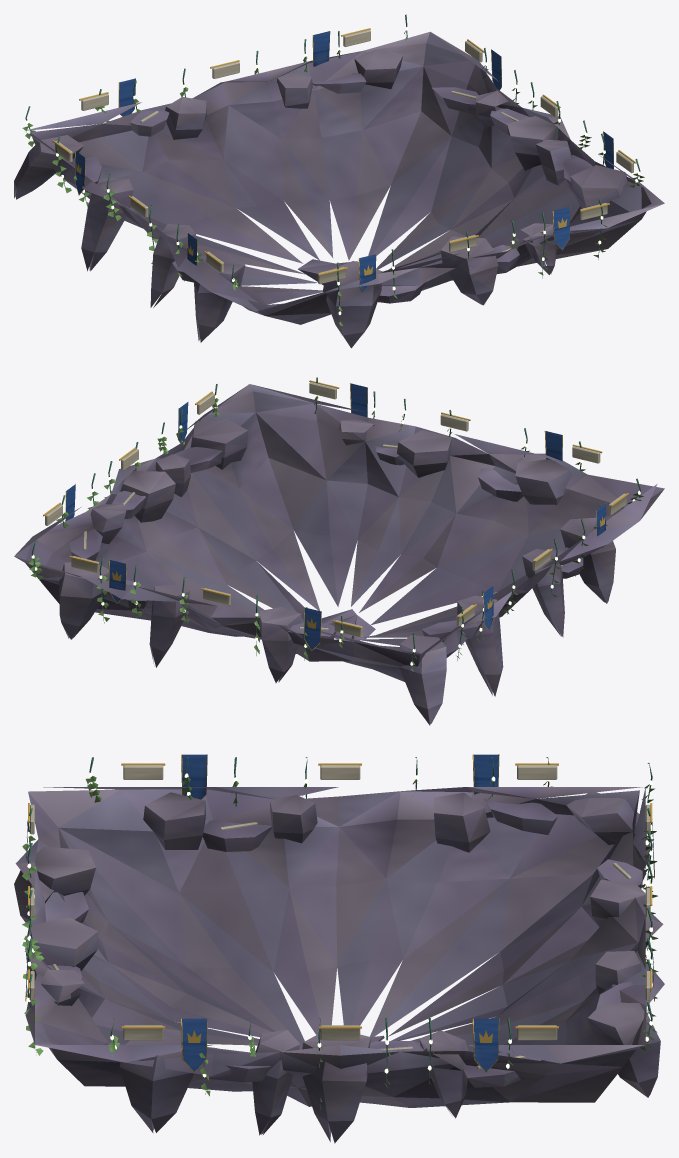
The model's file is crown-foundation-v4-balanced.glb.
3 renders of one model, top to bottom at view 1: azimuth 30°, elevation 25°; view 2: azimuth 150°, elevation 25°; view 3: azimuth 270°, elevation 25°, orthographic. The views are drawn at different scales.
Visible parts, largest first — view 1: crown-foundation-v4; view 2: crown-foundation-v4; view 3: crown-foundation-v4.
Part boxes in pixels (x1,y1,x2,y2): crown-foundation-v4: [14, 14, 664, 348]; crown-foundation-v4: [14, 377, 664, 725]; crown-foundation-v4: [14, 754, 664, 1143].
Bounding box in the file's own units: 26.94 × 8.44 × 26.78.
7 materials, 7 textured.
